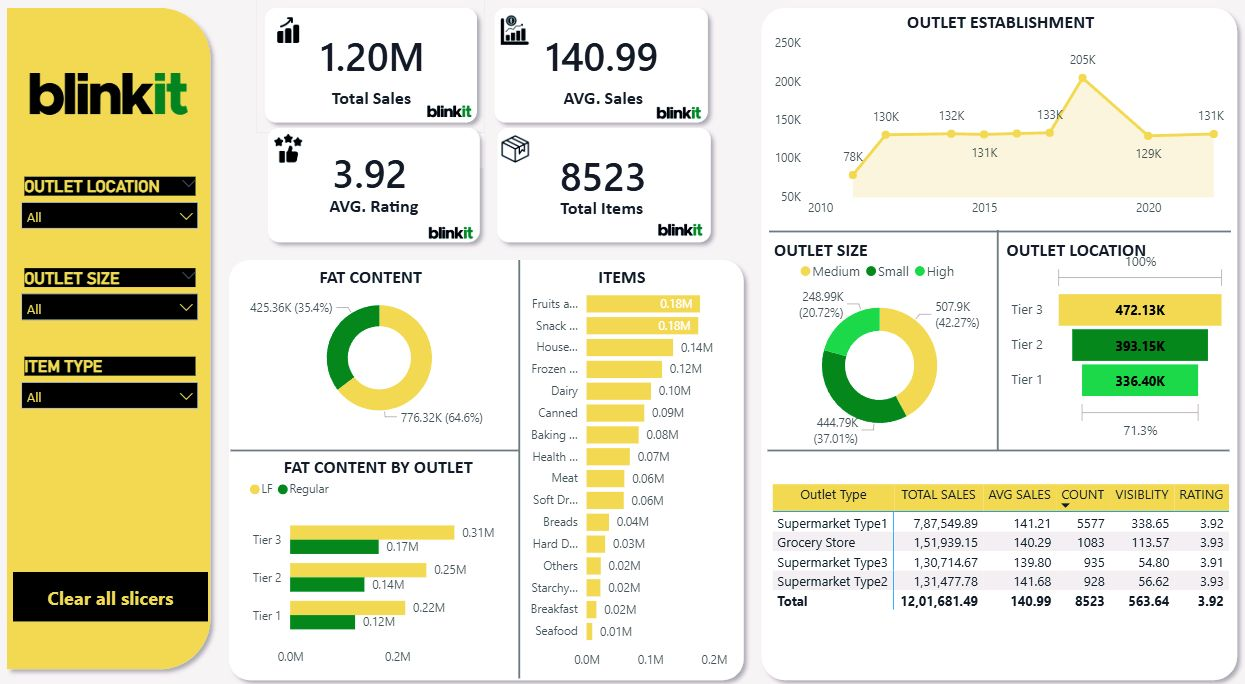

What the dashboard file says about the page in this screenshot:
{"tool":"powerbi","page":{"name":"Page 1","canvas":[1280,720],"ordinal":0},"visuals":[{"type":"shape","box":[0,0,223.7,720.4],"z":0},{"type":"image","box":[0,0,223.7,214.1],"z":1000},{"type":"shape","box":[223.8,11,233.6,118.6],"z":2000},{"type":"shape","box":[223.8,251.9,490.4,468.3],"z":3000},{"type":"shape","box":[714.1,0,566.2,720.2],"z":4000},{"type":"shape","box":[223.8,129.6,233.6,118.6],"z":5000},{"type":"shape","box":[469.6,12.2,233.6,118.6],"z":6000},{"type":"shape","box":[469.6,129.6,233.6,118.6],"z":7000},{"type":"cardVisual","fields":{"Data":["Sum(BlinkIT Grocery Data.Sales)"]},"box":[256.8,15.9,168.8,74.6],"z":8000},{"type":"cardVisual","fields":{"Data":["Avg(BlinkIT Grocery Data.Sales)"]},"box":[484.2,15.9,204.2,83.2],"z":9000},{"type":"cardVisual","fields":{"Data":["Avg(BlinkIT Grocery Data.Rating)"]},"box":[256.8,139.4,168.8,74.6],"z":10000},{"type":"cardVisual","fields":{"Data":["CountNonNull(BlinkIT Grocery Data.Item Identifier)"]},"box":[484.2,135.7,204.2,83.2],"z":11000},{"type":"textbox","box":[264.1,83.2,154.1,30.6],"z":12000},{"type":"textbox","box":[509.9,83.2,154.1,30.6],"z":13000},{"type":"textbox","box":[264.1,199.3,154.1,30.6],"z":14000},{"type":"textbox","box":[509.9,200.5,154.1,30.6],"z":15000},{"type":"image","box":[375.4,83.2,81.9,41.6],"z":16000},{"type":"image","box":[622.4,83.2,81.9,41.6],"z":17000},{"type":"image","box":[375.4,200.5,81.9,41.6],"z":18000},{"type":"image","box":[622.4,199.3,81.9,41.6],"z":19000},{"type":"image","box":[236,24.5,41.6,29.3],"z":20000},{"type":"image","box":[484.2,24.5,41.6,29.3],"z":21000},{"type":"image","box":[240.9,148,31.8,29.3],"z":22000},{"type":"image","box":[484.2,148,41.6,29.3],"z":23000},{"type":"barChart","fields":{"Category":["BlinkIT Grocery Data.Item Type"],"Y":["Sum(BlinkIT Grocery Data.Sales)"]},"box":[469.6,289.8,233.6,418.2],"z":24000},{"type":"textbox","box":[509.9,273.9,154.1,30.6],"z":25000},{"type":"donutChart","fields":{"Category":["BlinkIT Grocery Data.Item Fat Content"],"Y":["Sum(BlinkIT Grocery Data.Sales)"]},"box":[236,304.5,233.6,154.1],"z":26000},{"type":"textbox","box":[276.4,273.9,154.1,30.6],"z":27000},{"type":"clusteredBarChart","fields":{"Y":["Sum(BlinkIT Grocery Data.Sales)"],"Series":["BlinkIT Grocery Data.Item Fat Content"],"Category":["BlinkIT Grocery Data.Outlet Location Type"]},"box":[236,498.9,245.8,195.7],"z":28000},{"type":"textbox","box":[262.9,483,181,30.6],"z":29000},{"type":"shape","box":[463.5,273.9,12.2,420.7],"z":30000},{"type":"shape","box":[236,458.6,234.8,17.1],"z":31000},{"type":"areaChart","fields":{"Category":["BlinkIT Grocery Data.Outlet Establishment Year"],"Y":["Sum(BlinkIT Grocery Data.Sales)"]},"box":[736.1,22,524.6,205.4],"z":32000},{"type":"textbox","box":[925.7,8.6,181,30.6],"z":33000},{"type":"donutChart","fields":{"Y":["Sum(BlinkIT Grocery Data.Sales)"],"Category":["BlinkIT Grocery Data.Outlet Size"]},"box":[736.1,251.9,233.6,206.7],"z":34000},{"type":"shape","box":[723.9,222.6,556.4,8.6],"z":35000},{"type":"textbox","box":[736.1,233.6,181,30.6],"z":36000},{"type":"shape","box":[969.7,227.4,12.2,231.1],"z":37000},{"type":"shape","box":[723.6,222.6,556.4,8.6],"z":38000},{"type":"shape","box":[723.9,458.6,556.4,8.6],"z":39000},{"type":"funnel","fields":{"Category":["BlinkIT Grocery Data.Outlet Location Type"],"Y":["Sum(BlinkIT Grocery Data.Sales)"]},"box":[981.9,248.2,278.8,206.7],"z":40000},{"type":"textbox","box":[981.9,236,181,30.6],"z":41000},{"type":"pivotTable","fields":{"Rows":["BlinkIT Grocery Data.Outlet Type"],"Values":["Sum(BlinkIT Grocery Data.Sales)","Avg(BlinkIT Grocery Data.Sales)","CountNonNull(BlinkIT Grocery Data.Item Identifier)","Avg(BlinkIT Grocery Data.Item Visibility)","Avg(BlinkIT Grocery Data.Rating)"]},"box":[744.7,483,506.3,146.7],"z":42000},{"type":"slicer","fields":{"Values":["BlinkIT Grocery Data.Outlet Location Type"]},"box":[24.5,194.4,181,69.7],"z":43000},{"type":"slicer","fields":{"Values":["BlinkIT Grocery Data.Outlet Size"]},"box":[24.5,291,181,69.7],"z":44000},{"type":"slicer","fields":{"Values":["BlinkIT Grocery Data.Item Type"]},"box":[24.5,381.5,181,69.7],"z":45000},{"type":"actionButton","box":[33,605.3,162.6,47.7],"z":46000}]}

Visuals, with their boxes in screenshot pixels (x1, y1, x2, y2), scaled from the page's 1280x720 canvas onto the 1245x684 screenshot:
shape: region(0, 0, 218, 683)
image: region(0, 0, 218, 203)
shape: region(218, 10, 445, 123)
shape: region(218, 239, 695, 683)
shape: region(695, 0, 1244, 683)
shape: region(218, 123, 445, 236)
shape: region(457, 12, 684, 124)
shape: region(457, 123, 684, 236)
cardVisual - Sum(BlinkIT Grocery Data.Sales): region(250, 15, 414, 86)
cardVisual - Avg(BlinkIT Grocery Data.Sales): region(471, 15, 670, 94)
cardVisual - Avg(BlinkIT Grocery Data.Rating): region(250, 132, 414, 203)
cardVisual - CountNonNull(BlinkIT Grocery Data.Item Identifier): region(471, 129, 670, 208)
textbox: region(257, 79, 407, 108)
textbox: region(496, 79, 646, 108)
textbox: region(257, 189, 407, 218)
textbox: region(496, 190, 646, 220)
image: region(365, 79, 445, 119)
image: region(605, 79, 685, 119)
image: region(365, 190, 445, 230)
image: region(605, 189, 685, 229)
image: region(230, 23, 270, 51)
image: region(471, 23, 511, 51)
image: region(234, 141, 265, 168)
image: region(471, 141, 511, 168)
barChart - BlinkIT Grocery Data.Item Type x Sum(BlinkIT Grocery Data.Sales): region(457, 275, 684, 673)
textbox: region(496, 260, 646, 289)
donutChart - BlinkIT Grocery Data.Item Fat Content x Sum(BlinkIT Grocery Data.Sales): region(230, 289, 457, 436)
textbox: region(269, 260, 419, 289)
clusteredBarChart - Sum(BlinkIT Grocery Data.Sales) x BlinkIT Grocery Data.Item Fat Content: region(230, 474, 469, 660)
textbox: region(256, 459, 432, 488)
shape: region(451, 260, 463, 660)
shape: region(230, 436, 458, 452)
areaChart - BlinkIT Grocery Data.Outlet Establishment Year x Sum(BlinkIT Grocery Data.Sales): region(716, 21, 1226, 216)
textbox: region(900, 8, 1076, 37)
donutChart - Sum(BlinkIT Grocery Data.Sales) x BlinkIT Grocery Data.Outlet Size: region(716, 239, 943, 436)
shape: region(704, 211, 1244, 220)
textbox: region(716, 222, 892, 251)
shape: region(943, 216, 955, 436)
shape: region(704, 211, 1244, 220)
shape: region(704, 436, 1244, 444)
funnel - BlinkIT Grocery Data.Outlet Location Type x Sum(BlinkIT Grocery Data.Sales): region(955, 236, 1226, 432)
textbox: region(955, 224, 1131, 253)
pivotTable - BlinkIT Grocery Data.Outlet Type x Sum(BlinkIT Grocery Data.Sales): region(724, 459, 1217, 598)
slicer - BlinkIT Grocery Data.Outlet Location Type: region(24, 185, 200, 251)
slicer - BlinkIT Grocery Data.Outlet Size: region(24, 276, 200, 343)
slicer - BlinkIT Grocery Data.Item Type: region(24, 362, 200, 429)
actionButton: region(32, 575, 190, 620)
